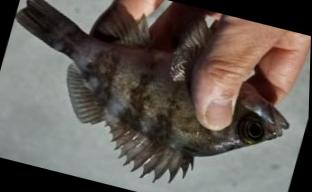fish: (15, 0, 290, 185)
